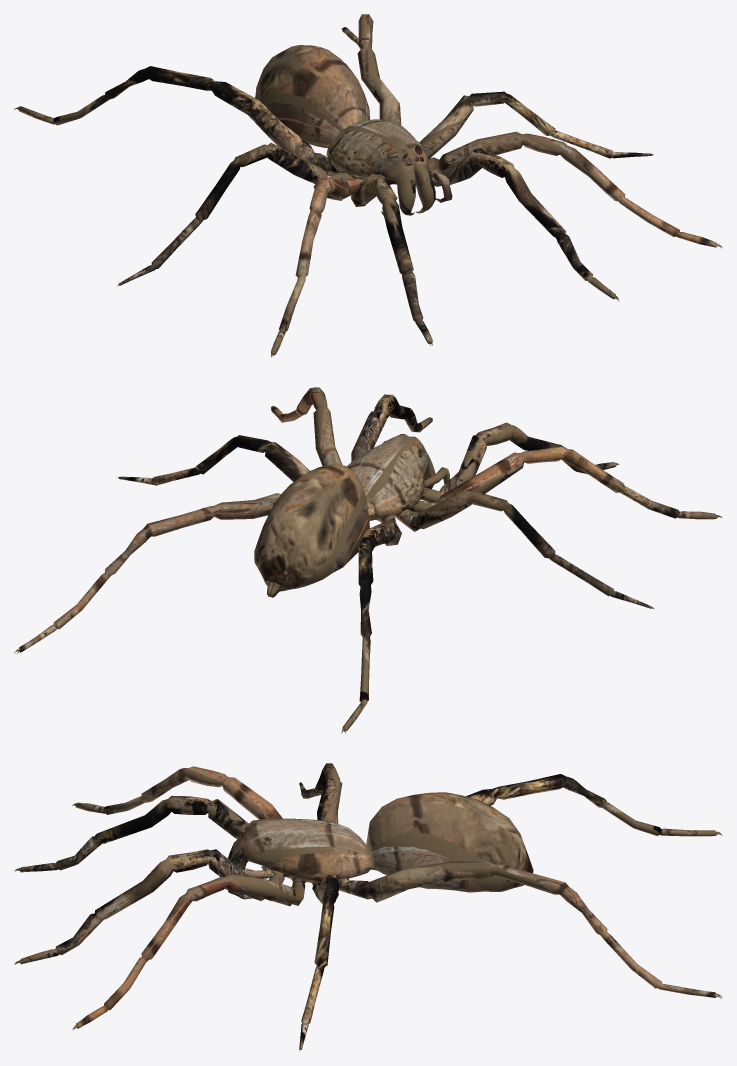
Rendered from bodyspider.obj.
The picture shows the model from 3 angles, top to bottom: view 1: azimuth 30°, elevation 25°; view 2: azimuth 150°, elevation 25°; view 3: azimuth 270°, elevation 25°; orthographic projection. The views are drawn at different scales.
Visible parts, largest first — view 1: Object_7; view 2: Object_7; view 3: Object_7.
Part boxes in pixels (x1=…): Object_7: x1=14, y1=14, x2=722, y2=357; Object_7: x1=14, y1=387, x2=722, y2=733; Object_7: x1=14, y1=763, x2=722, y2=1050.
Bounding box in the file's own units: 299 × 64.3 × 334.
